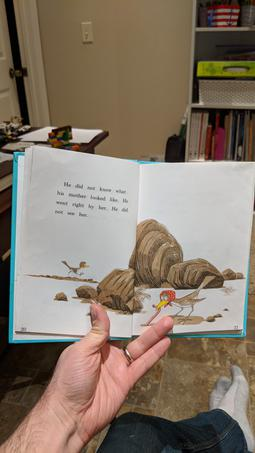text block: (41, 175, 132, 225)
